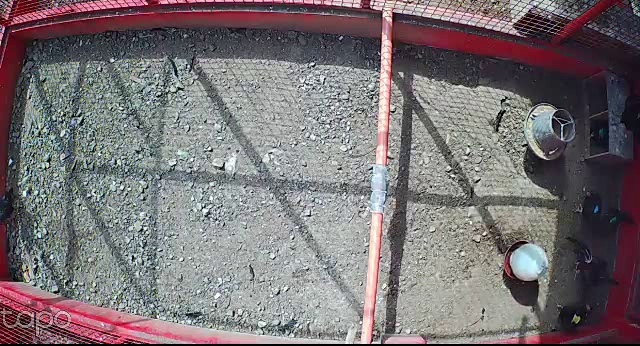Chicken: (597, 199, 638, 240), (572, 188, 605, 234), (554, 303, 592, 332)
Drinker: (502, 239, 549, 282)
Feeder: (523, 102, 576, 161)
Rooster: (564, 234, 621, 290)
Saddle_Color_Blue: (594, 205, 599, 213)
Saddle_Color_Yellow: (571, 314, 582, 323)
